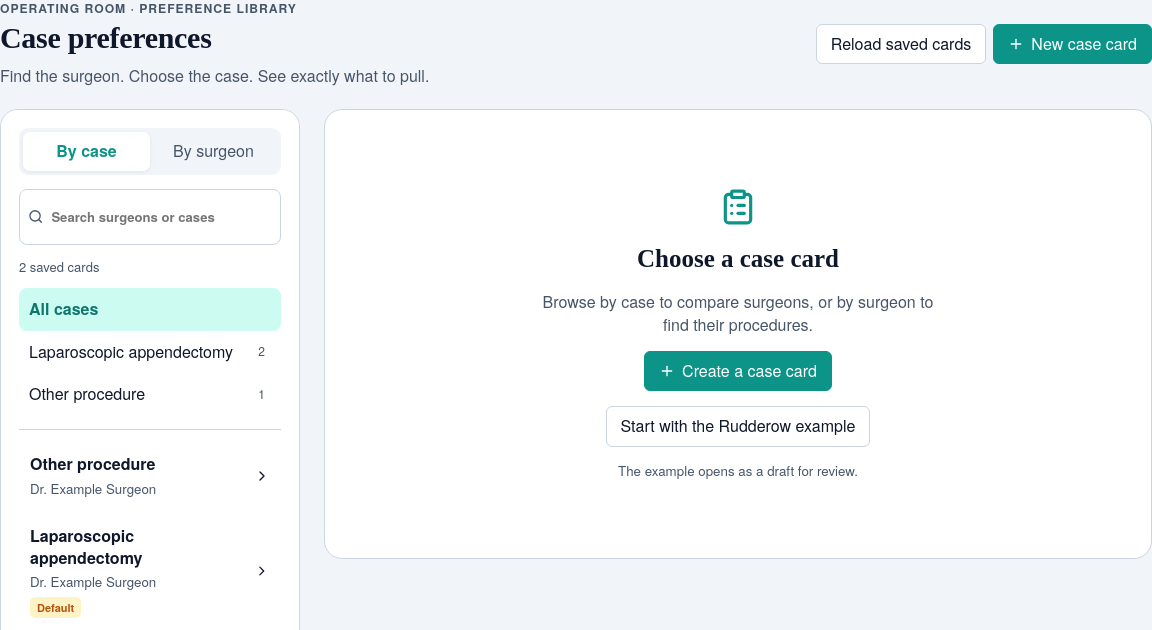
Test: uses a flagged default when browsing a surgeon and customizes it without editing the shared default
Click the button "By surgeon" at (214, 152), box left=150, top=132, right=277, bottom=171
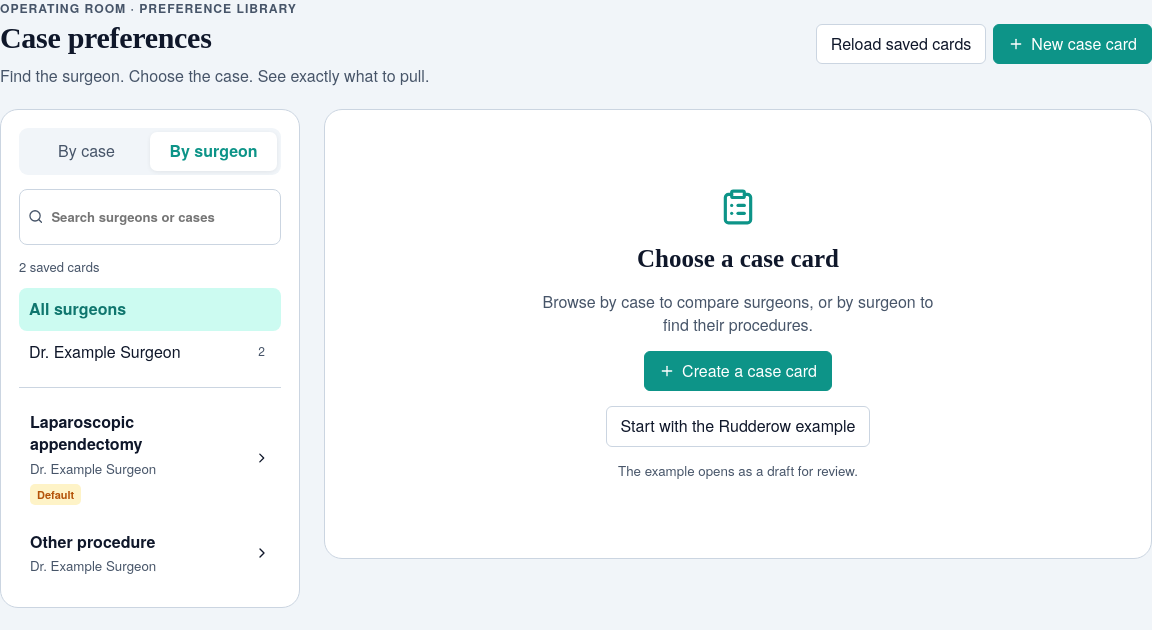
Click the button with class "cp-card-result" that starts with "Laparoscopic appendectomy" at (150, 458), box left=19, top=398, right=281, bottom=518
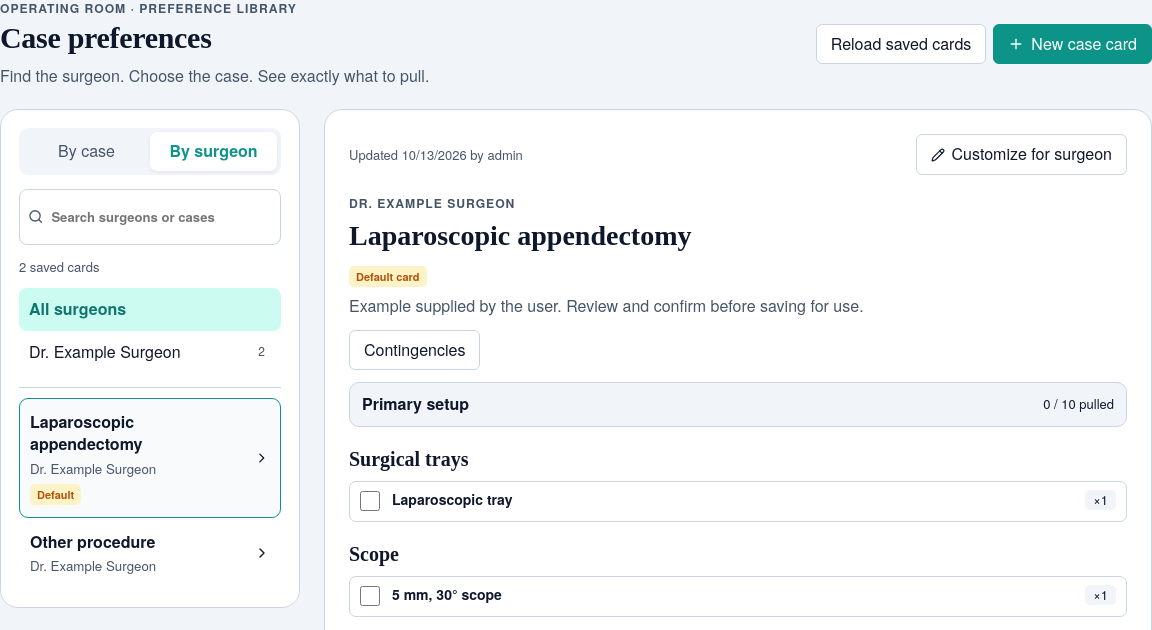
expect the text with class "cp-default-flag" reads "Default card": met, box left=356, top=269, right=420, bottom=284
Click the button "Customize for surgeon" at (1021, 155), box left=916, top=134, right=1127, bottom=175
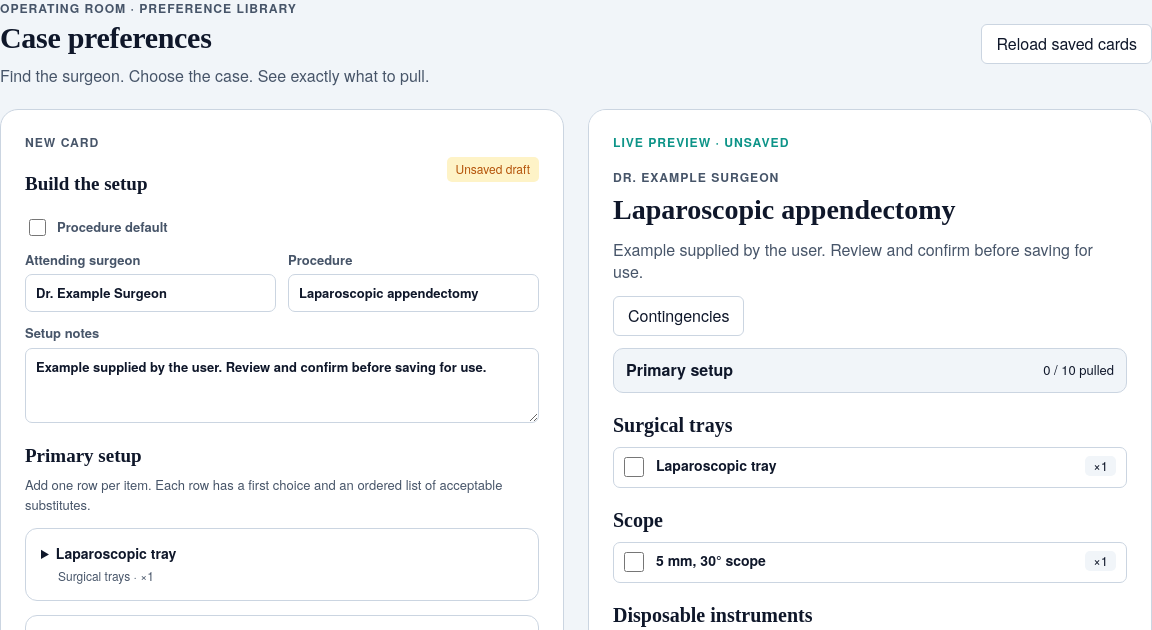
expect the checkbox labelled "Procedure default" is not checked: met, box left=29, top=219, right=46, bottom=236
expect the field labelled "Attending surgeon" holds "Dr. Example Surgeon": met, box left=25, top=274, right=276, bottom=312
